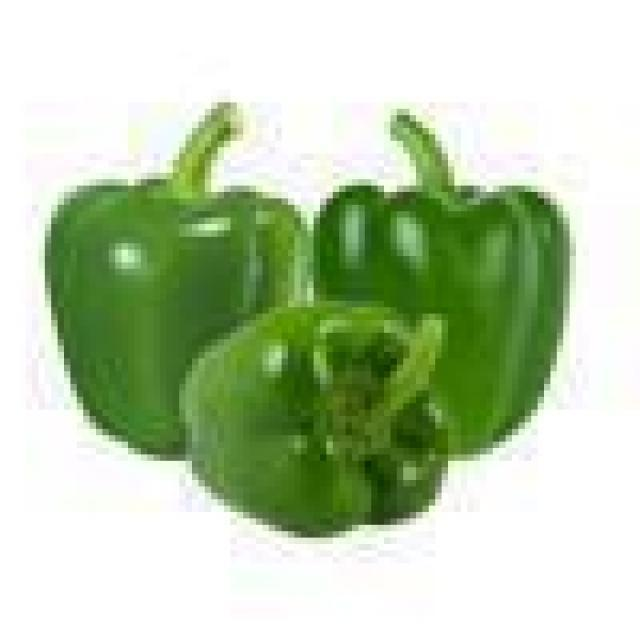Pepper: (46, 113, 299, 459), (315, 119, 571, 460), (185, 304, 448, 536)
